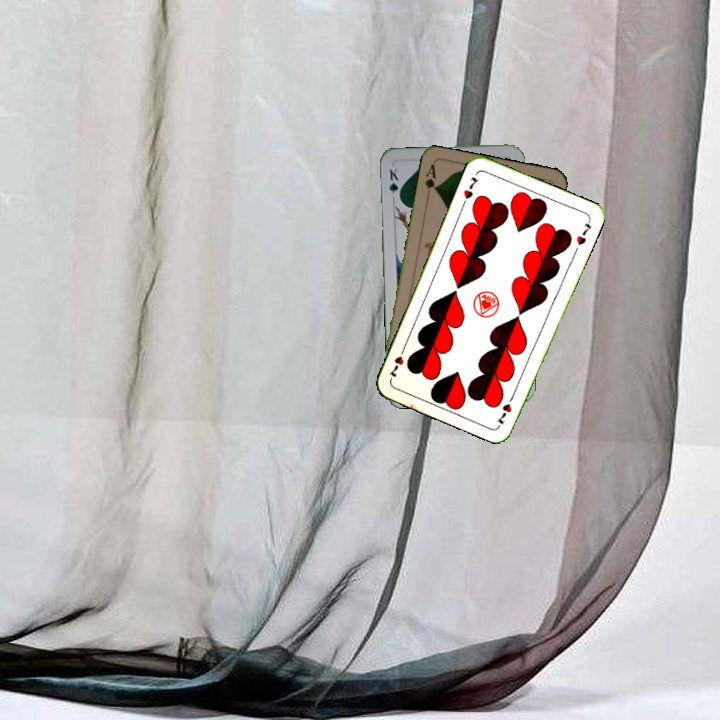GA: (421, 160, 439, 201)
GK: (385, 164, 402, 203)
H7: (493, 389, 517, 428), (458, 173, 481, 208)
